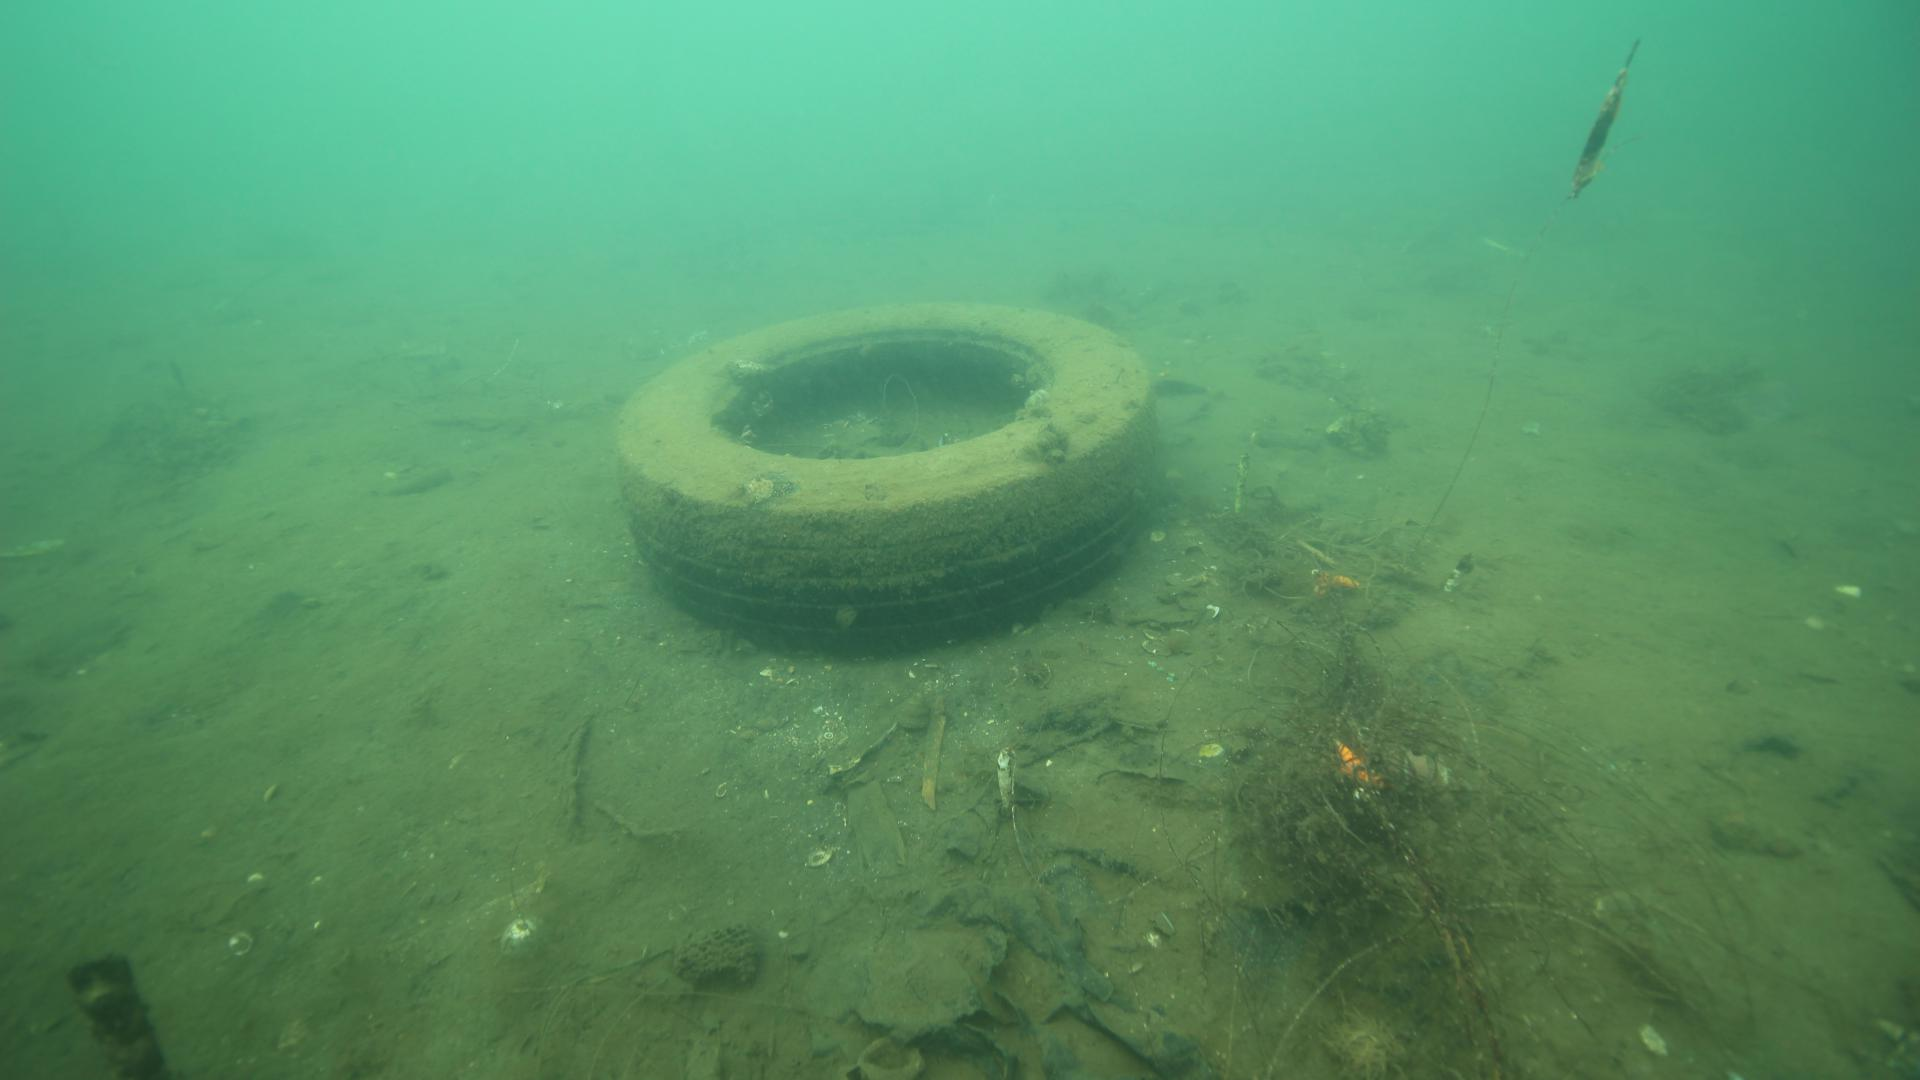tire: (611, 295, 1158, 654)
